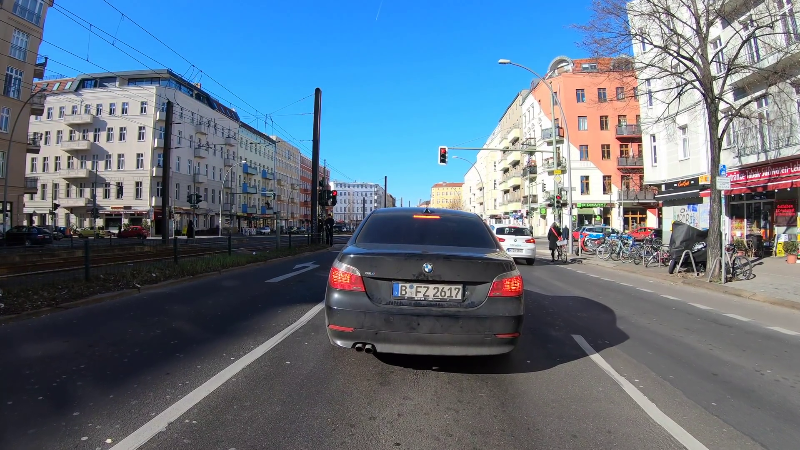Plate: (389, 281, 463, 299), (507, 246, 524, 252)
